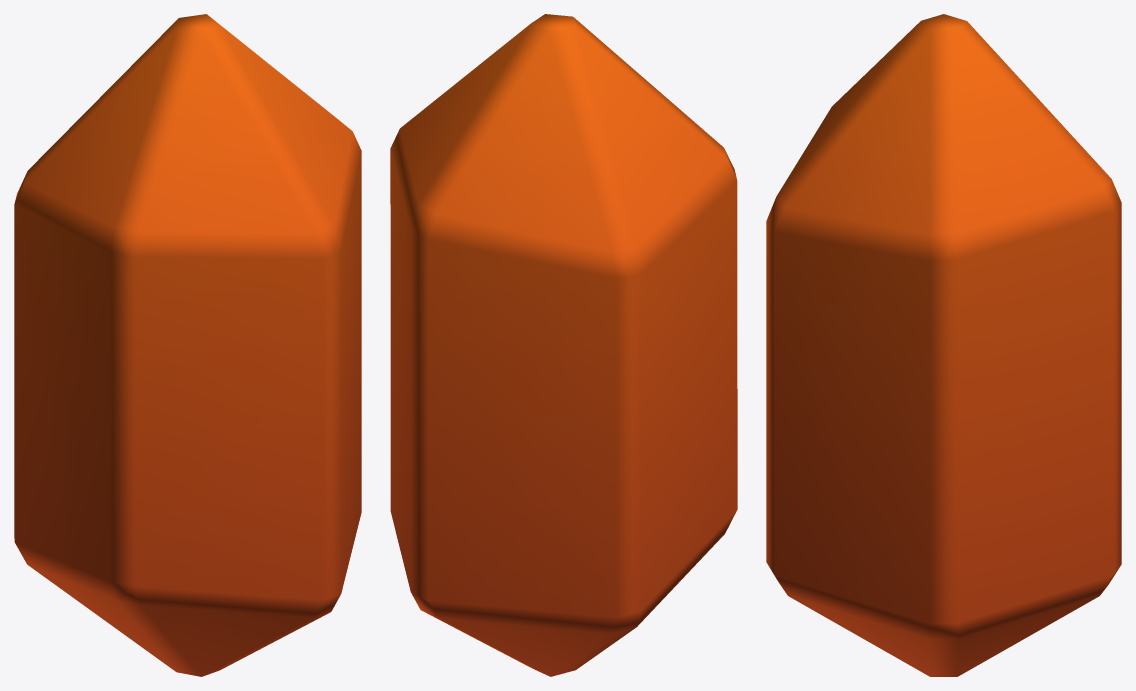
Rendered from inferno-gem-003.glb.
3 renders of one model, left to right at view 1: azimuth 30°, elevation 25°; view 2: azimuth 150°, elevation 25°; view 3: azimuth 270°, elevation 25°, orthographic.
Visible parts, largest first — view 1: Gem_003; view 2: Gem_003; view 3: Gem_003.
Part boxes in pixels (<box>): Gem_003: <box>14,14,361,676</box>; Gem_003: <box>390,14,737,676</box>; Gem_003: <box>766,14,1121,676</box>.
Size of the model in its own units: 0.2067 by 0.4362 by 0.2173.
Materials: 1 (1 with a texture image).
